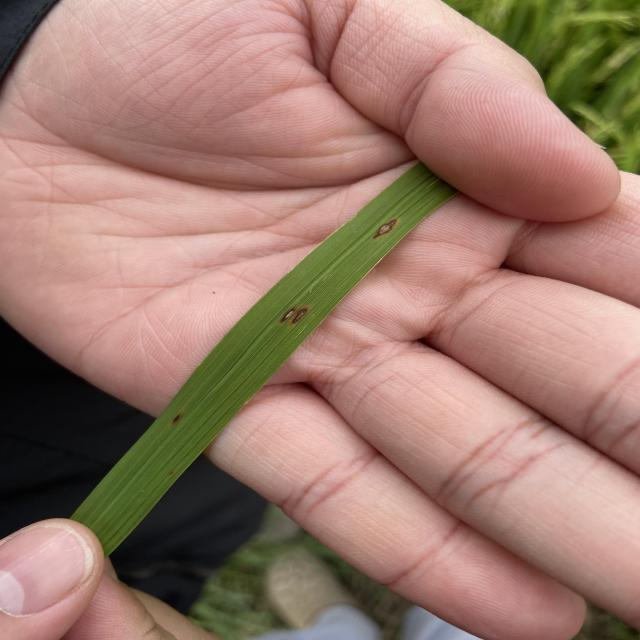Dao on: (372, 218, 399, 239), (291, 307, 308, 325), (279, 307, 295, 324)
